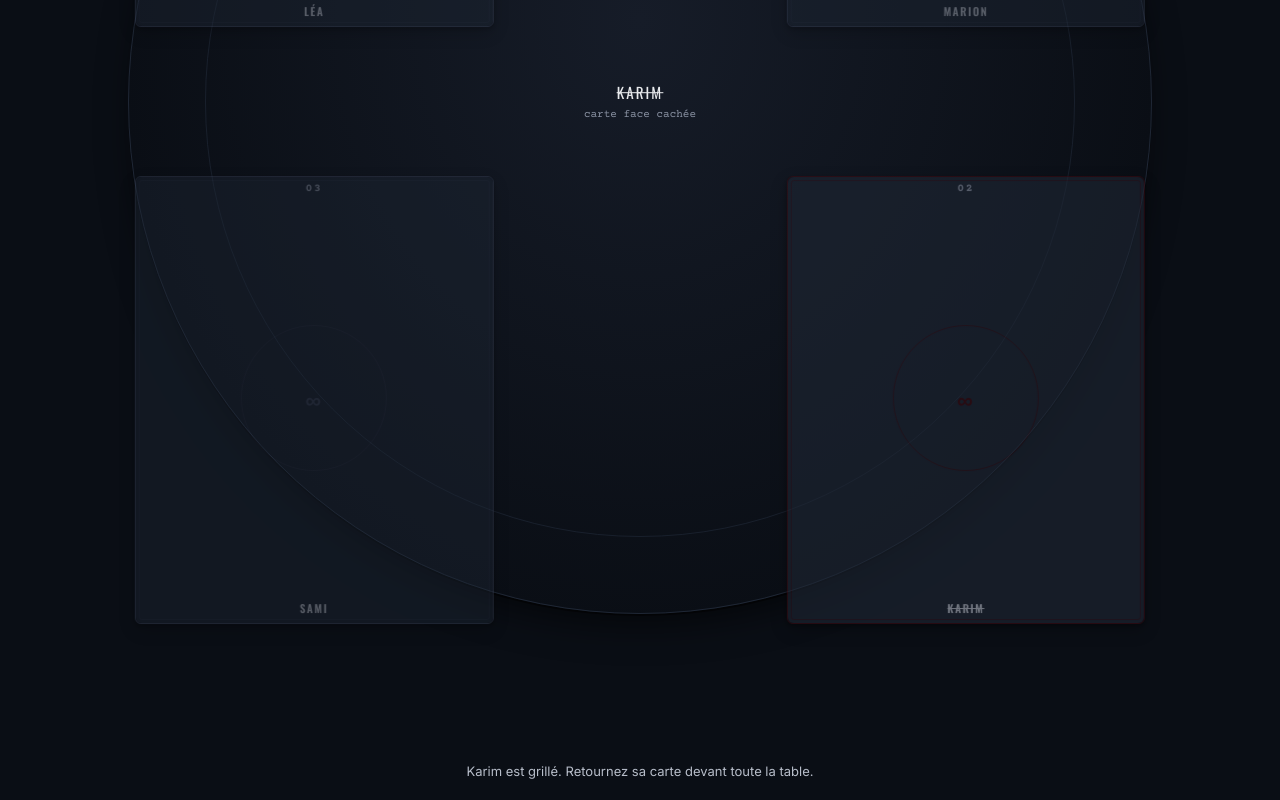
Test: EliminationScreen › retourne la carte au geste sur la table et découvre le mot
(page scrolled)
Click the button "02 ∞ Karim 02 Karim" at (966, 400), box [787,176,1145,624]
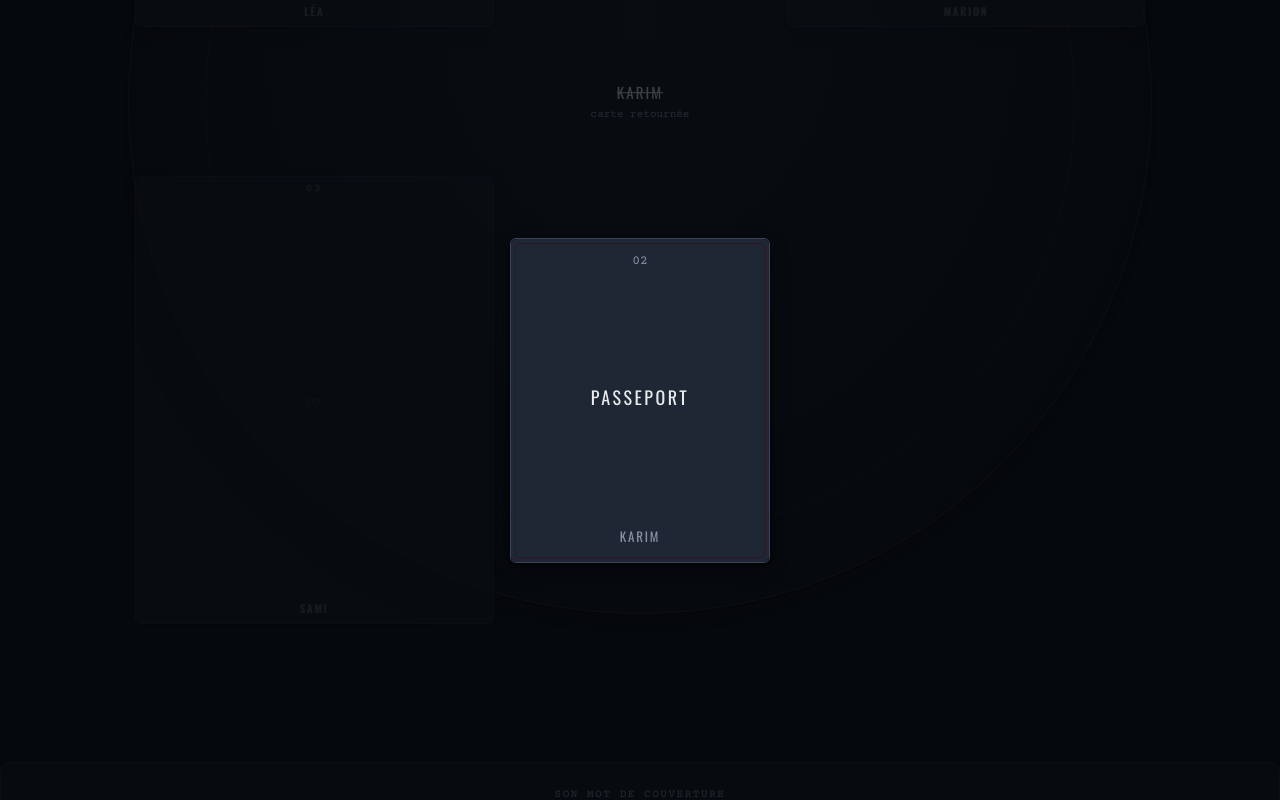
Expected: the text "carte retournée" is shown, [590,108,689,121]
